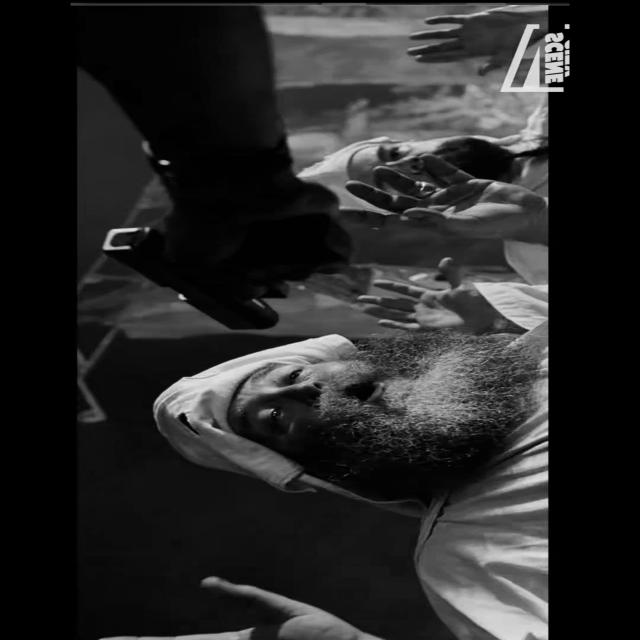weapons: (82, 214, 362, 338)
